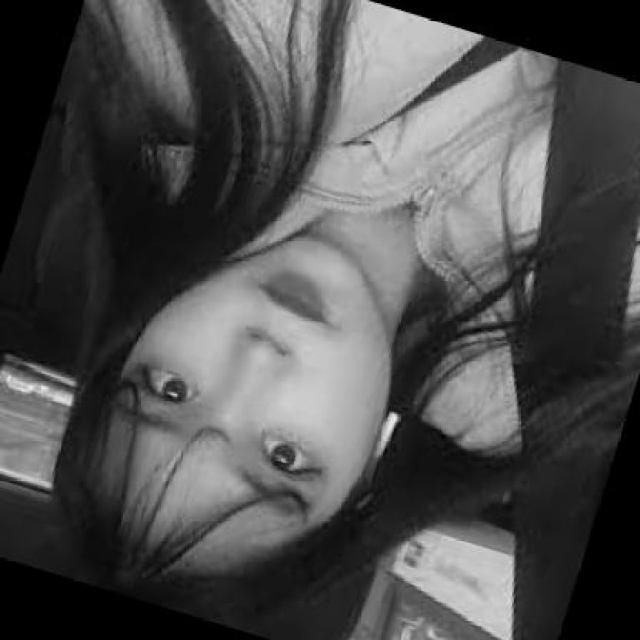earphone: (350, 392, 425, 512)
